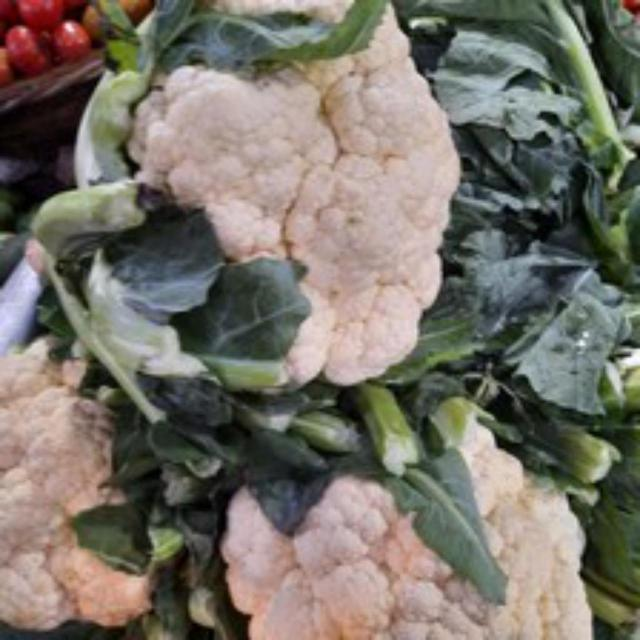cauliflower: (96, 0, 462, 400)
